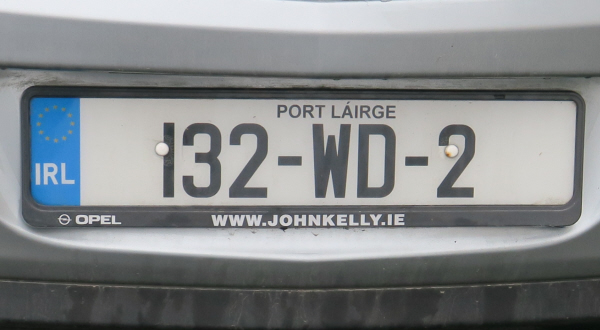license_plate: (20, 86, 584, 225)
